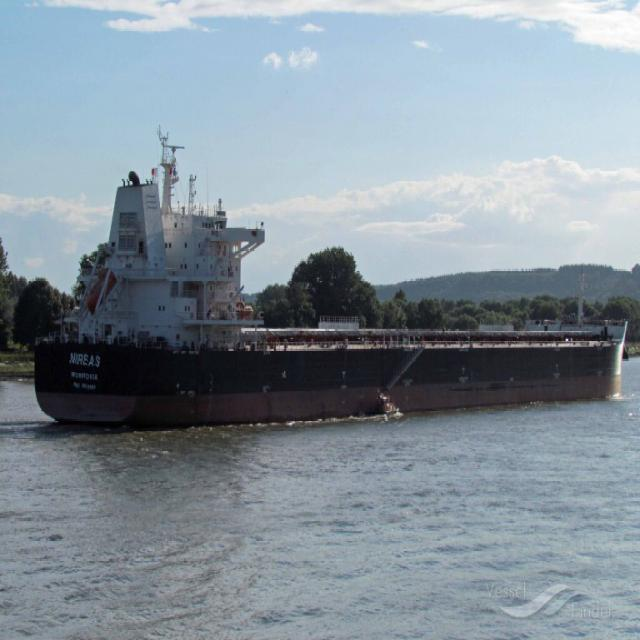OCR: (61, 345, 107, 393)
